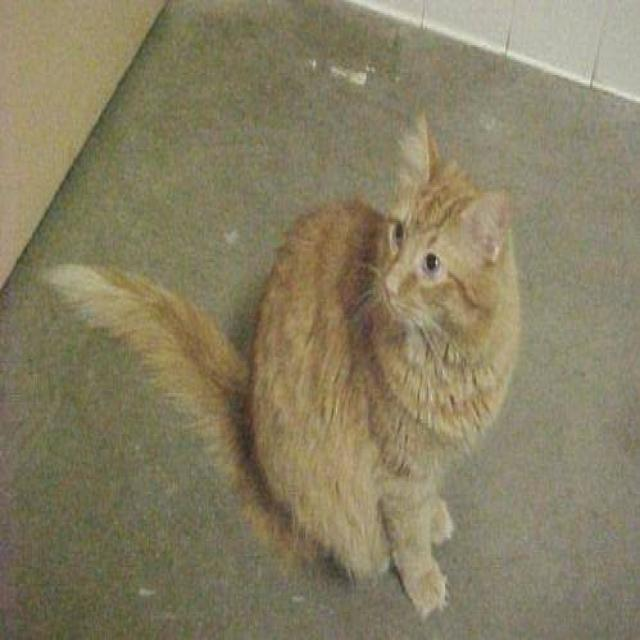Kucing: (43, 123, 595, 629)
